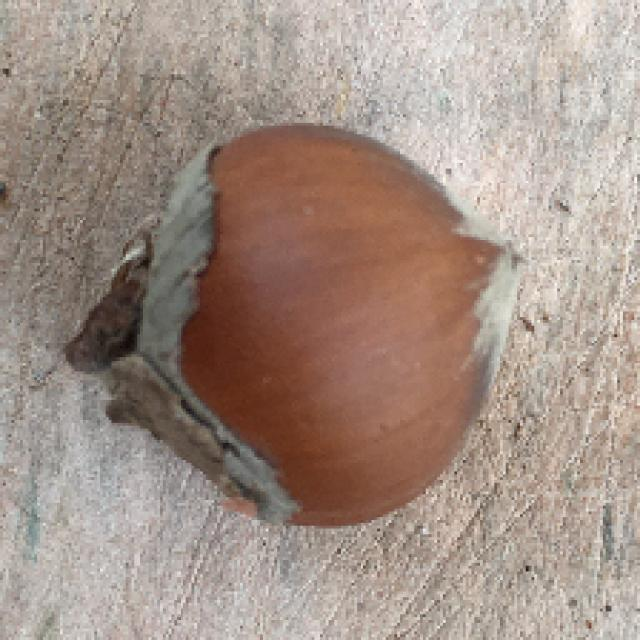damagedHazelnut: (82, 117, 526, 524)
